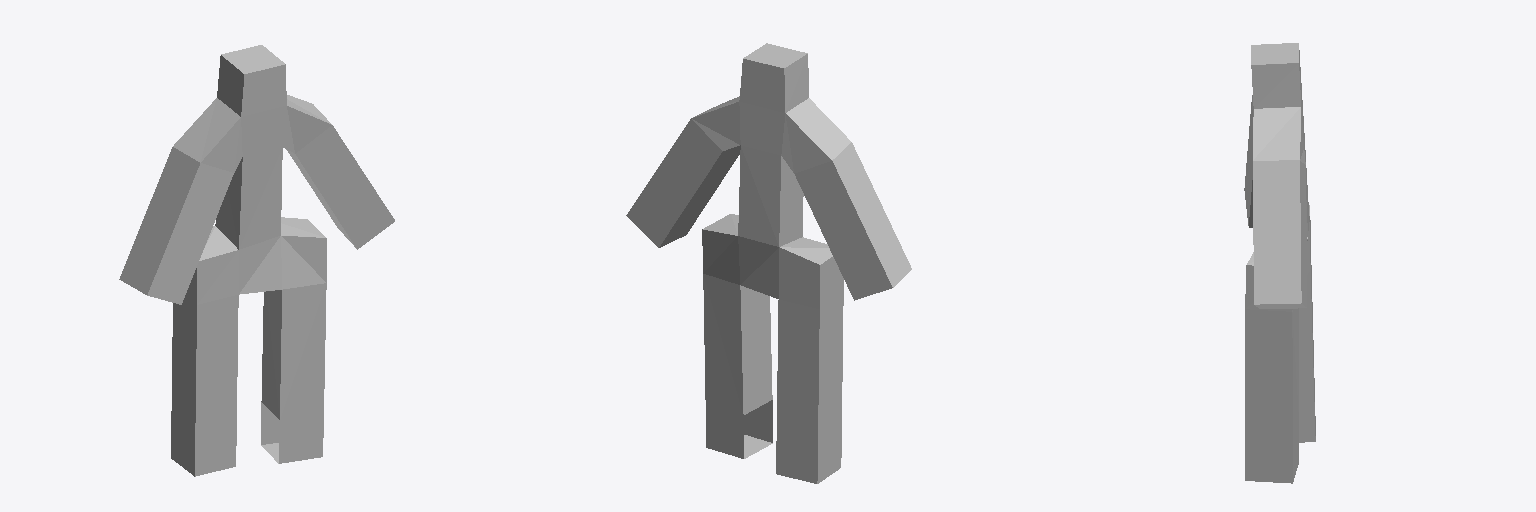
The model's file is cuboid_000024.obj.
3 renders of one model, left to right at view 1: azimuth 30°, elevation 25°; view 2: azimuth 150°, elevation 25°; view 3: azimuth 270°, elevation 25°, orthographic.
Visible parts, largest first — view 1: Cube; view 2: Cube; view 3: Cube.
Part boxes in pixels (bbox=[...]): Cube: bbox=[119, 45, 394, 476]; Cube: bbox=[626, 43, 911, 483]; Cube: bbox=[1244, 43, 1315, 483].
Bounding box in the file's own units: 3.16 × 4.63 × 0.7457.